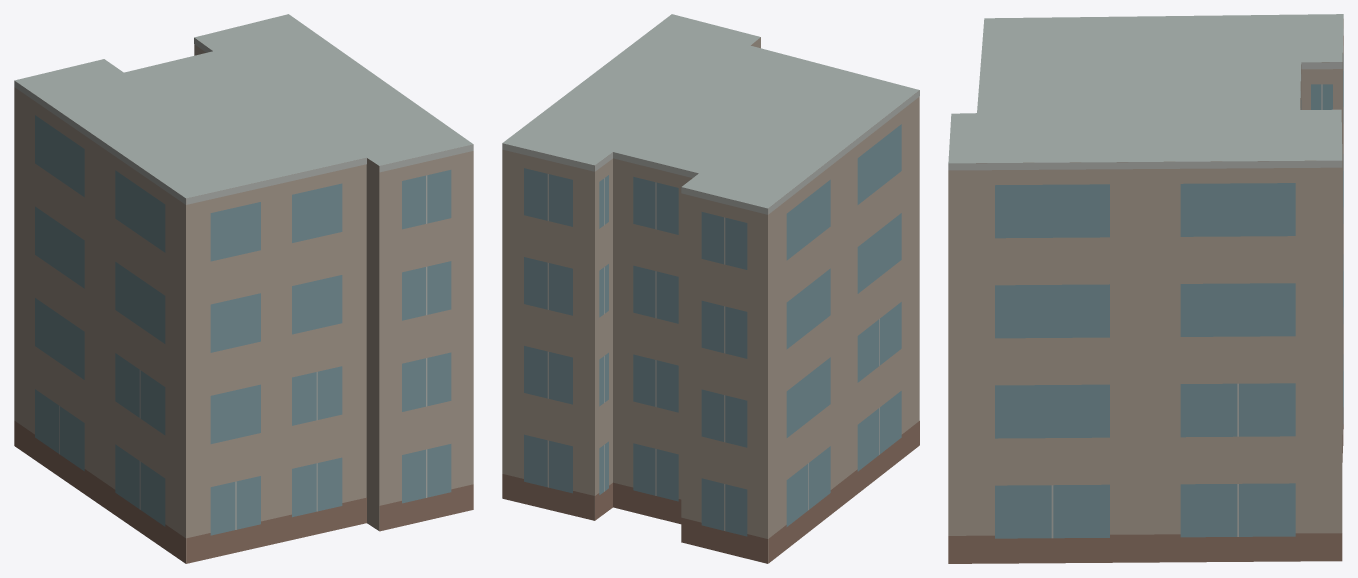
File: survey-upis-32697764.glb
The picture shows the model from 3 angles, left to right: view 1: azimuth 30°, elevation 25°; view 2: azimuth 150°, elevation 25°; view 3: azimuth 270°, elevation 25°; orthographic projection. The views are drawn at different scales.
Visible parts, largest first — view 1: survey-upis-32697764.tmp; view 2: survey-upis-32697764.tmp; view 3: survey-upis-32697764.tmp.
Boxes of the visible parts, <box> form: survey-upis-32697764.tmp: <box>14,14,473,563</box>; survey-upis-32697764.tmp: <box>502,14,919,563</box>; survey-upis-32697764.tmp: <box>948,14,1343,563</box>.
Bounding box in the file's own units: 10.94 × 13.67 × 12.24.
